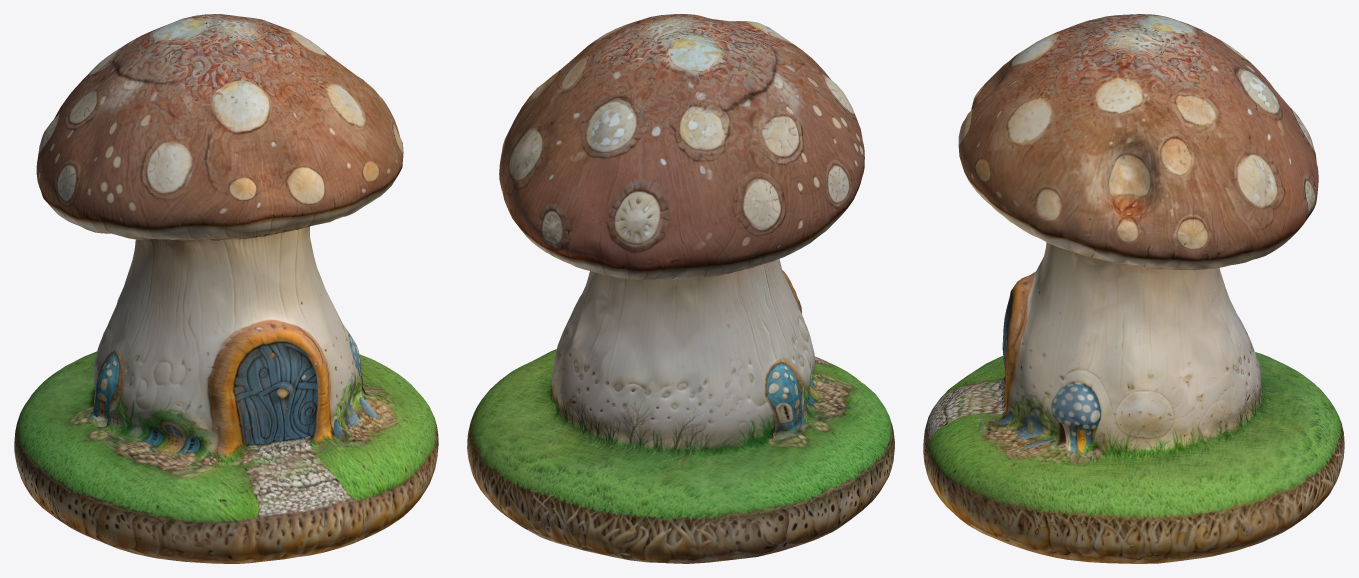
3 views of the same model, side by side, from view 1: azimuth 30°, elevation 25°; view 2: azimuth 150°, elevation 25°; view 3: azimuth 270°, elevation 25° (orthographic).
Size of the model in its own units: 0.9712 by 1.2 by 0.9722.
1 material, 1 textured.
